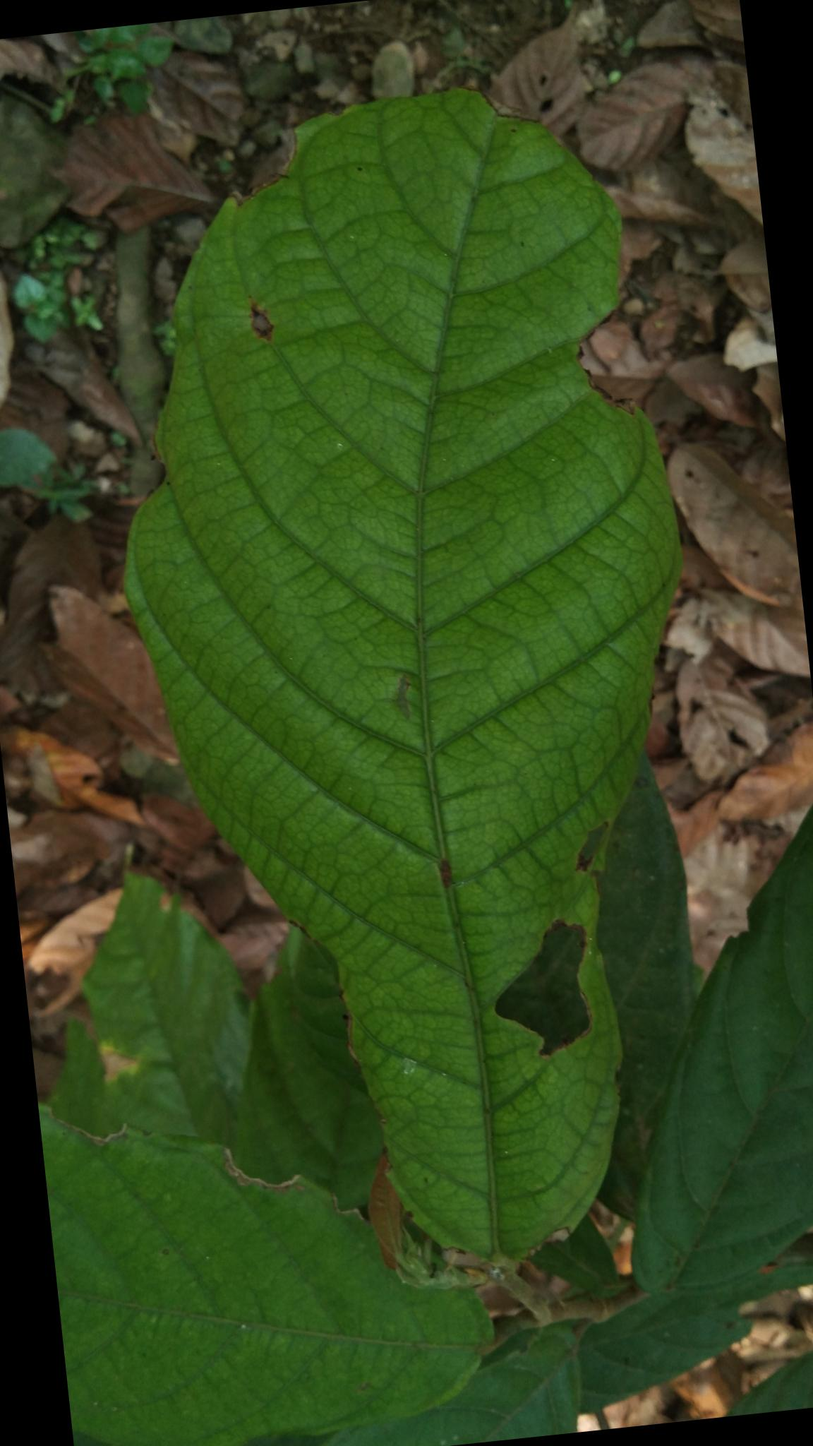Fosforo: (126, 89, 672, 1262)
